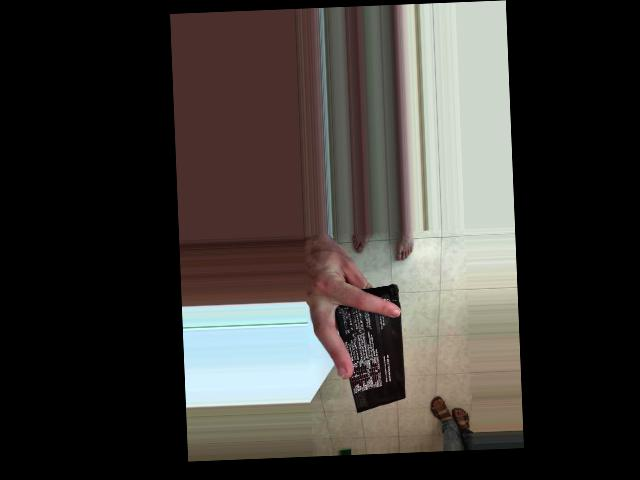chocolate: (337, 308, 475, 386)
